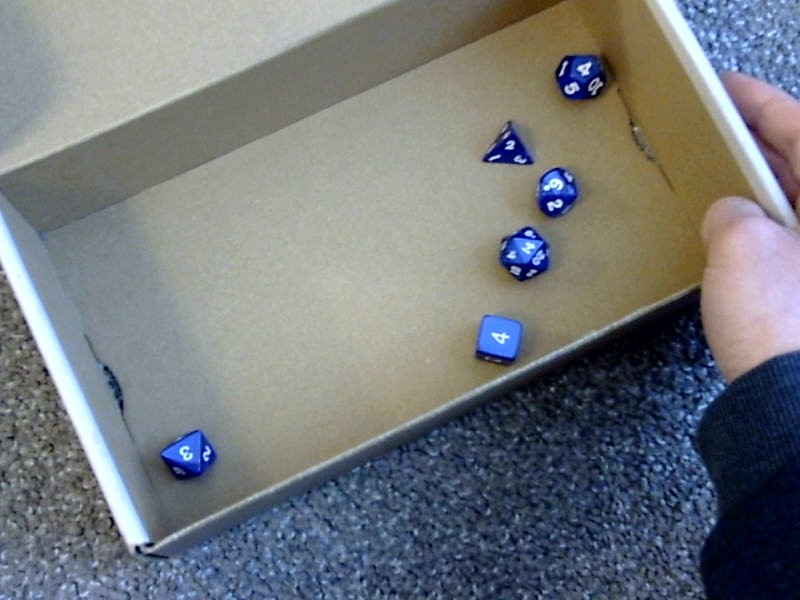d10 6: (535, 166, 578, 220)
d12 4: (550, 47, 607, 102)
d20 14: (494, 221, 551, 281)
d4 2: (484, 113, 533, 169)
d6 4: (471, 309, 523, 366)
d8 3: (153, 421, 220, 481)
